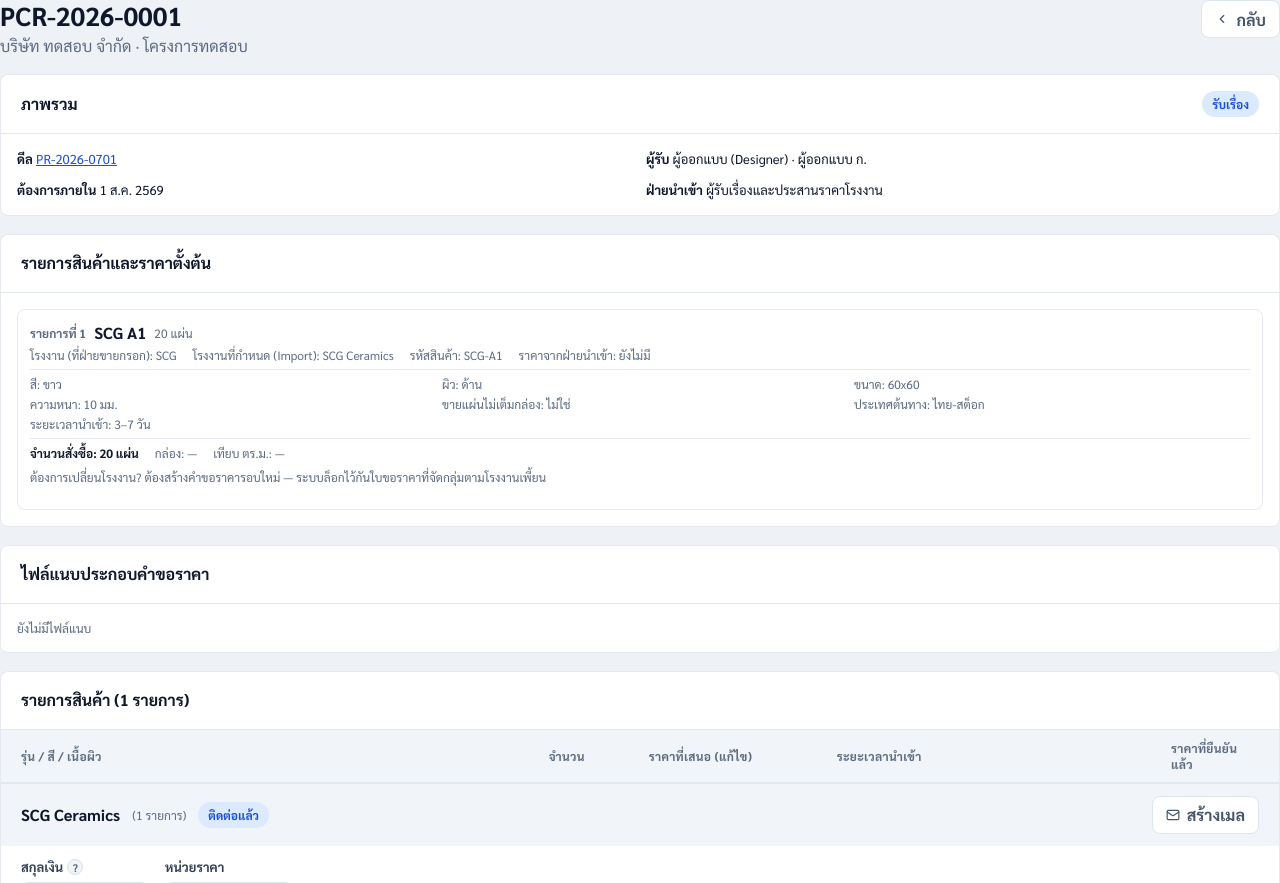
Scenario: PricingRequestDetailPage Import factory-quote workflow › reopens the mail of a CONTACTED factory read-only (copy kept, no บันทึกร่าง)
Expected: the text "SCG Ceramics" is shown, [21,804,120,825]
Click the button with test id "pcr-open-email-draft-91": (1205, 815) [1152,796,1259,834]
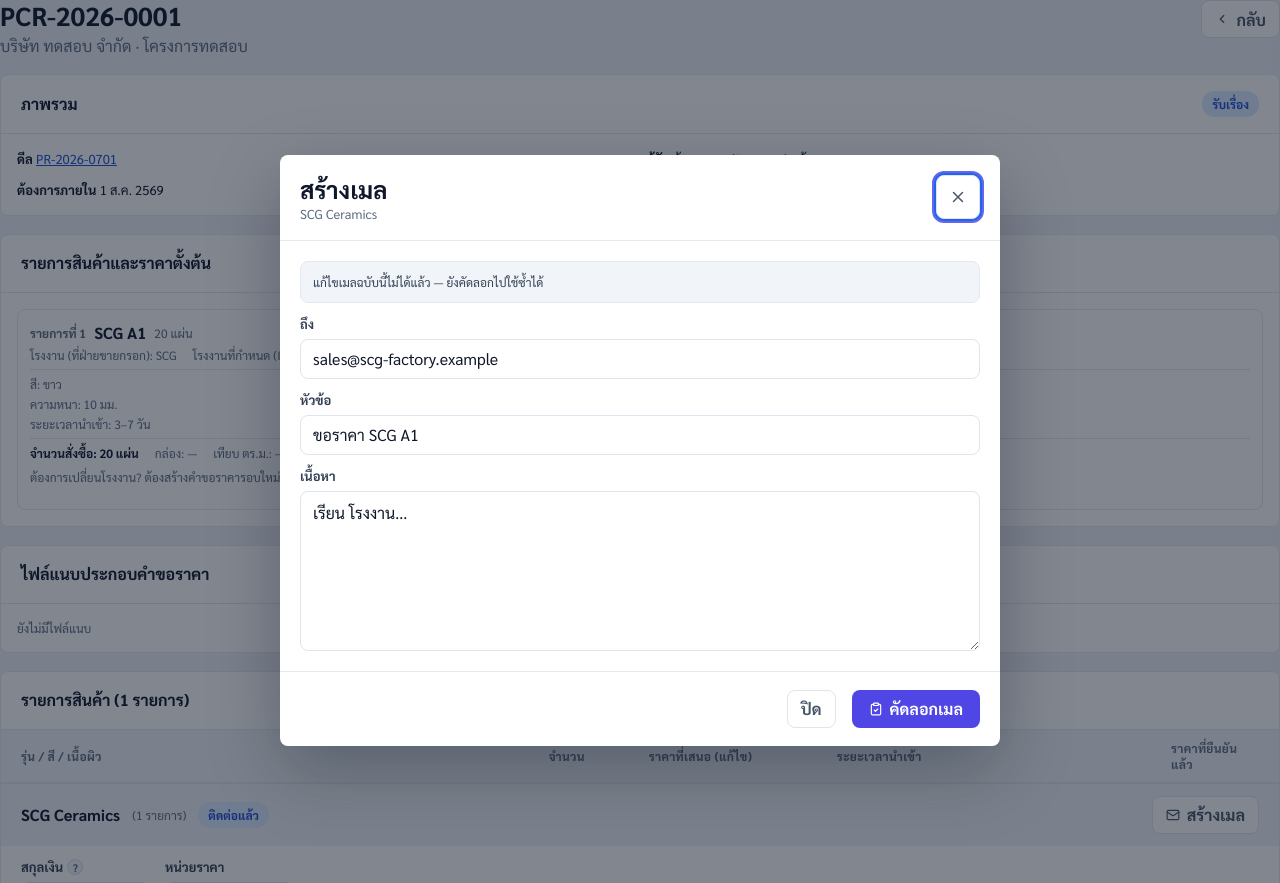
Now the button "คัดลอกเมล" is shown, box [852,690,980,728]
Now the field labelled "ถึง" is disabled, box [300,338,980,378]
